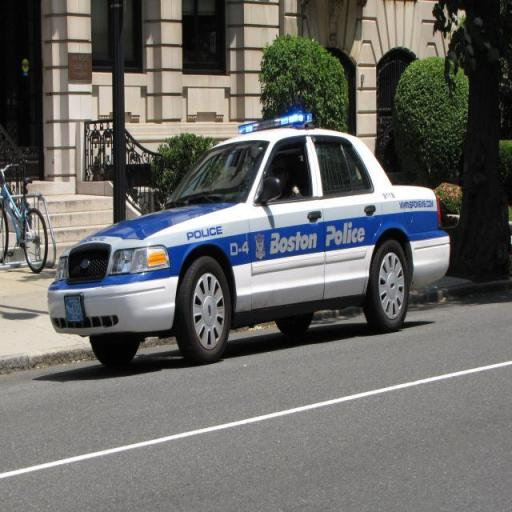Ambulance: (50, 114, 452, 360)
